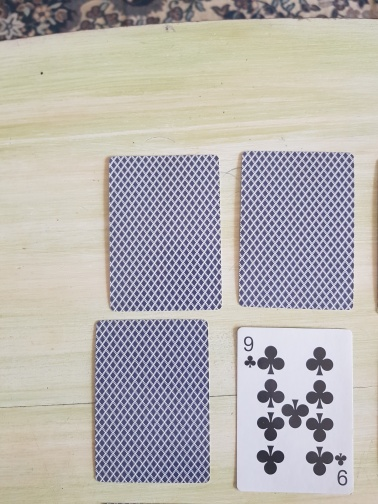nine: (235, 326, 356, 496)
